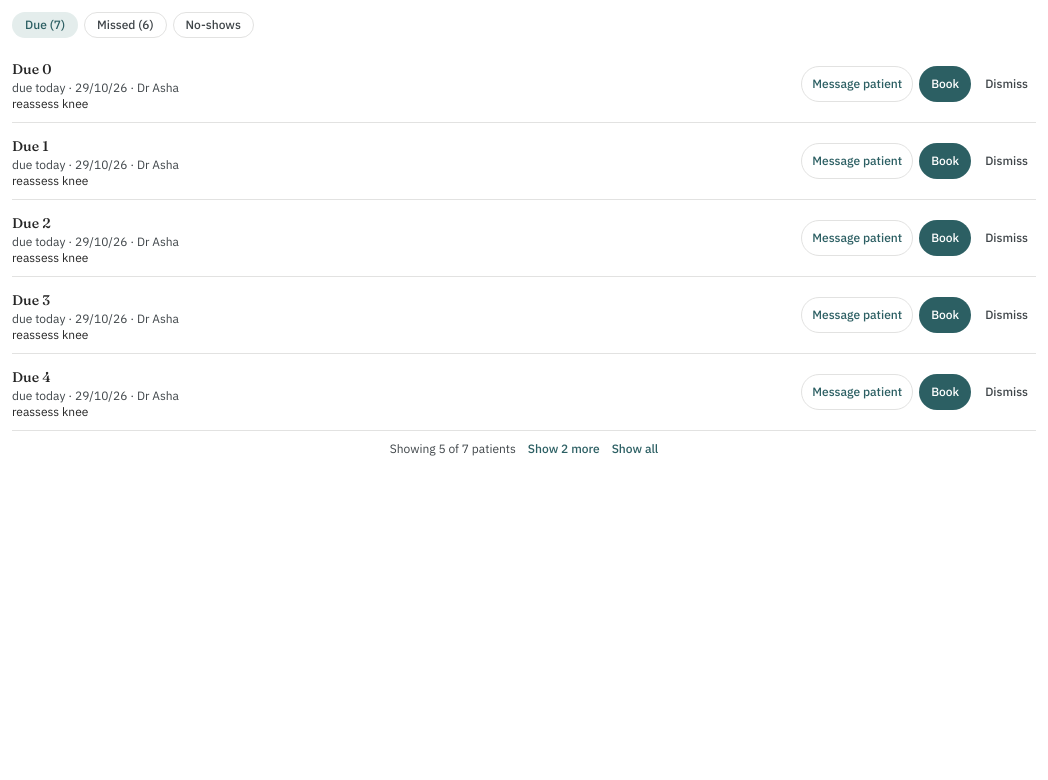
ReviewsPanel › shows one page of rows with Show more / Show all, and starts a changed filter back at the first page
Expected: the number of buttons "Book" is 5, [919,66,971,102]; [919,143,971,179]; [919,220,971,256]; [919,297,971,333]; [919,374,971,410]
Expected: the text "Showing 5 of 7 patients" is shown, [390,441,516,457]
Click the button "Show 2 more": (564, 449) [528,441,600,457]
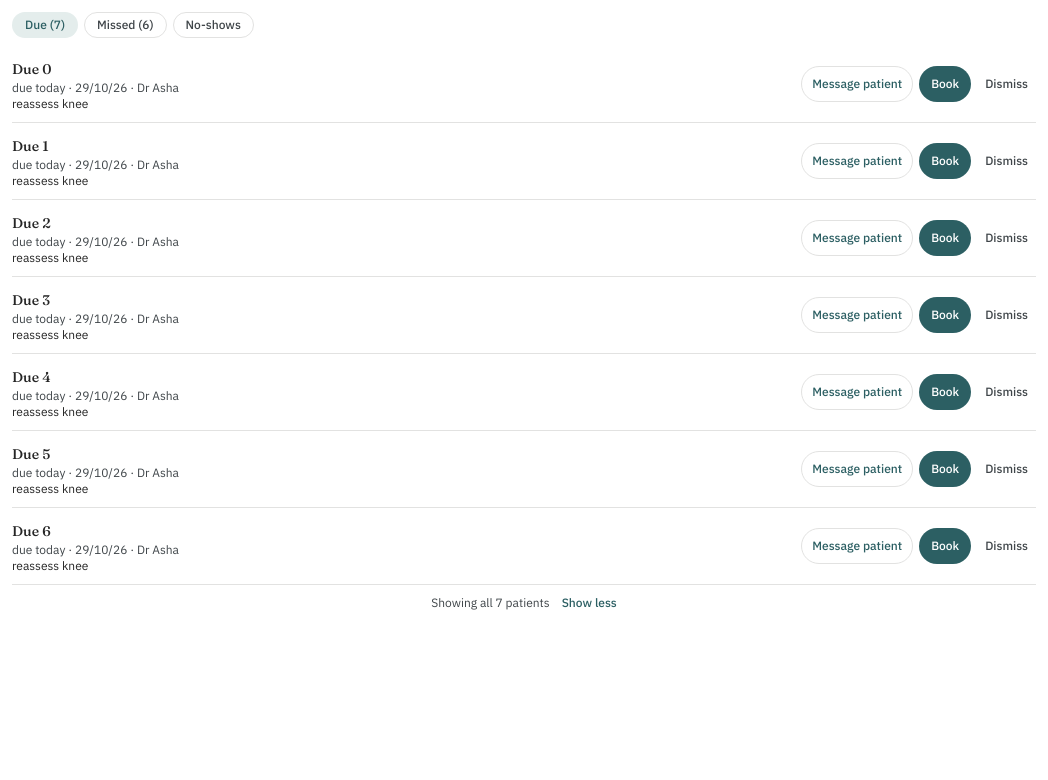
Result: the number of buttons "Book" is 7
Click the button "Missed (6)": (125, 25) [84,12,166,38]
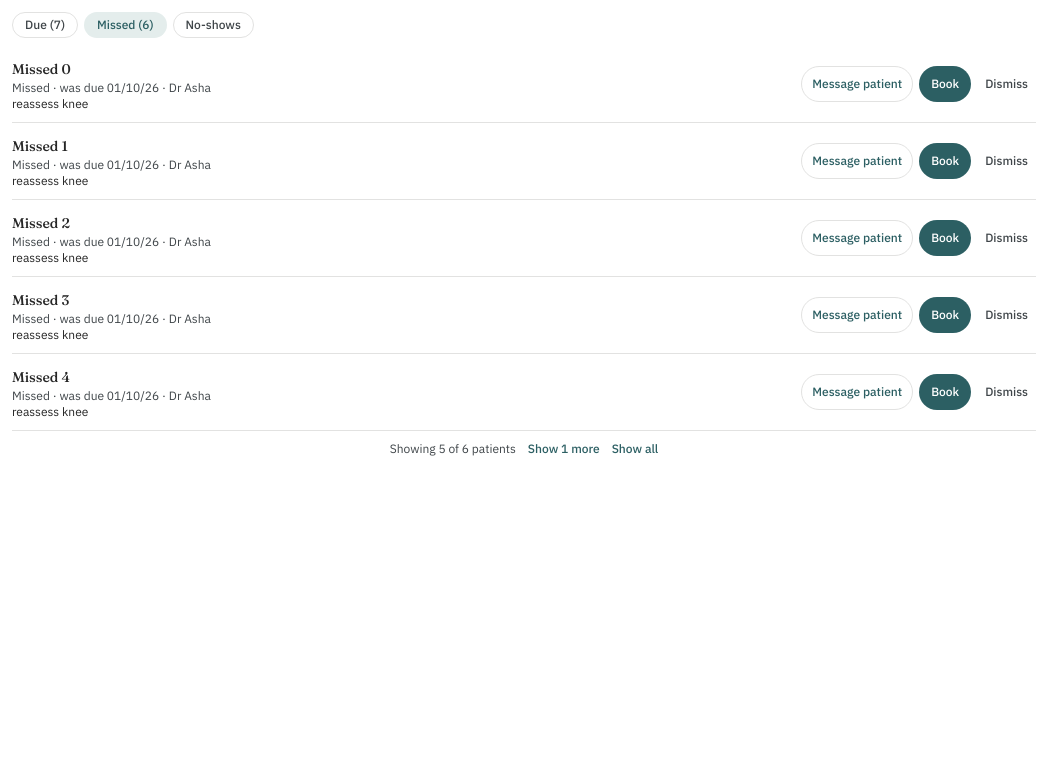
Result: the number of buttons "Book" is 5 at [919,66,971,102]; [919,143,971,179]; [919,220,971,256]; [919,297,971,333]; [919,374,971,410]
Result: the text "Showing 5 of 6 patients" is shown at [390,441,516,457]
